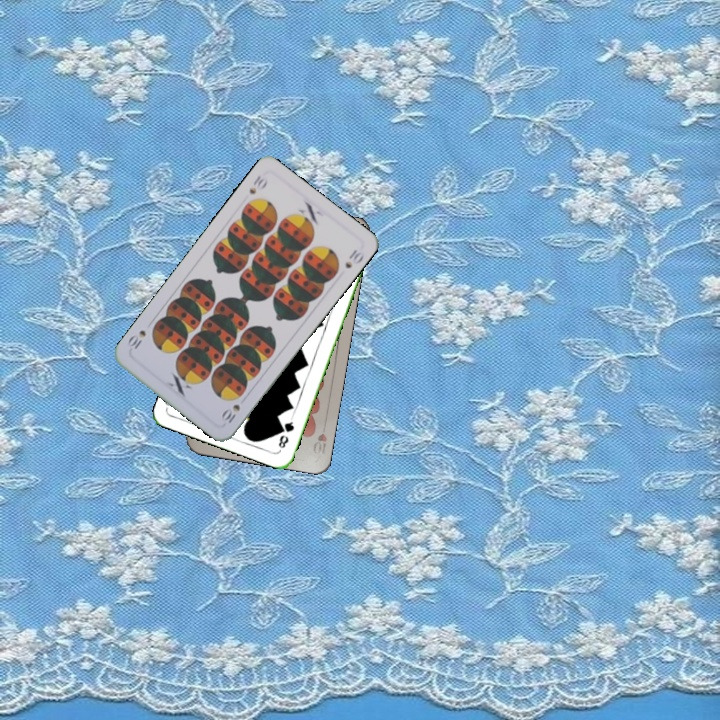G8: (274, 413, 297, 451)
H10: (308, 418, 329, 457)
S10: (217, 400, 243, 427), (245, 171, 270, 197)
